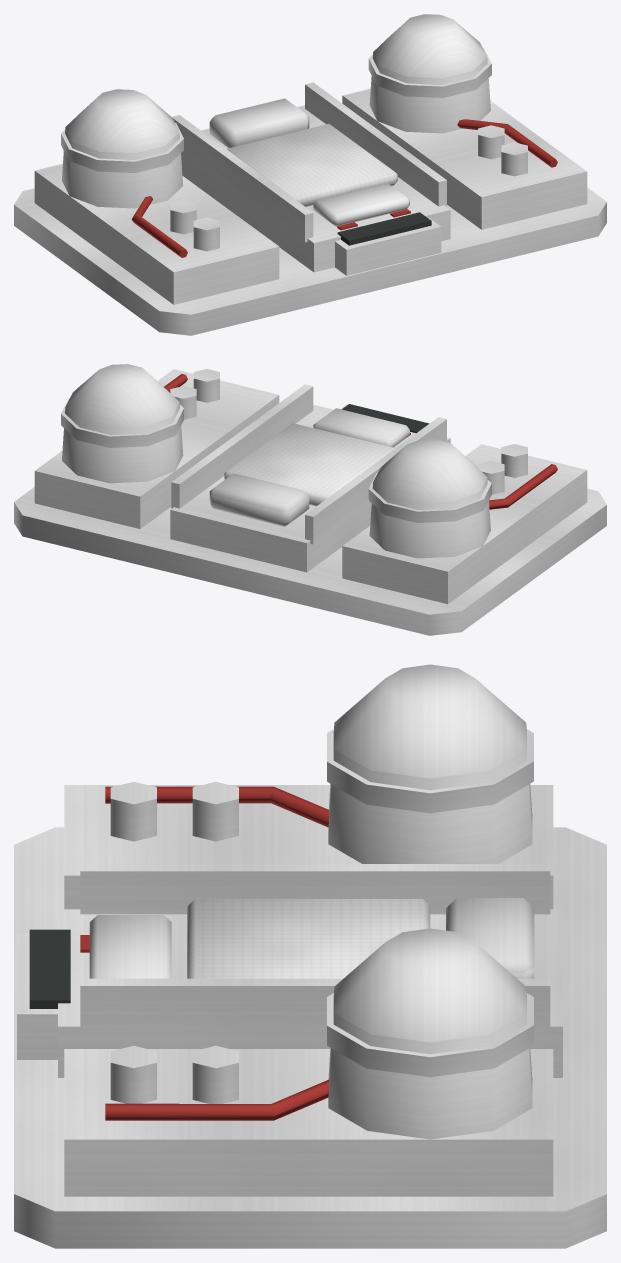
File: subcore_softscanner.obj
3 views of the same model, one above another, from view 1: azimuth 30°, elevation 25°; view 2: azimuth 150°, elevation 25°; view 3: azimuth 270°, elevation 25° (orthographic). The views are drawn at different scales.
Visible parts, largest first — view 1: source_component_000, source_component_001, source_component_002, source_component_016, source_component_021, source_component_004, source_component_003, source_component_007, source_component_008, source_component_009, source_component_005, source_component_006 (+9 smaller); view 2: source_component_000, source_component_001, source_component_002, source_component_016, source_component_021, source_component_003, source_component_004, source_component_008, source_component_005, source_component_007, source_component_006, source_component_022 (+7 smaller); view 3: source_component_000, source_component_002, source_component_021, source_component_016, source_component_007, source_component_001, source_component_004, source_component_008, source_component_003, source_component_022, source_component_017, source_component_006 (+9 smaller).
Boxes of the visible parts, x1,y1,x2,y2 form: source_component_000: [14, 188, 606, 335]; source_component_001: [34, 163, 279, 304]; source_component_002: [342, 88, 587, 229]; source_component_016: [62, 89, 183, 208]; source_component_021: [369, 14, 490, 133]; source_component_004: [227, 124, 397, 206]; source_component_003: [181, 105, 450, 272]; source_component_007: [172, 115, 313, 242]; source_component_008: [305, 82, 446, 206]; source_component_009: [335, 218, 441, 275]; source_component_005: [209, 98, 309, 147]; source_component_006: [313, 183, 409, 226]; source_component_000: [14, 487, 606, 635]; source_component_001: [342, 444, 587, 604]; source_component_002: [34, 369, 279, 528]; source_component_016: [369, 439, 490, 558]; source_component_021: [62, 364, 183, 483]; source_component_003: [170, 405, 450, 572]; source_component_004: [224, 423, 394, 506]; source_component_008: [171, 384, 313, 508]; source_component_005: [209, 473, 309, 526]; source_component_007: [305, 417, 446, 544]; source_component_006: [313, 408, 409, 447]; source_component_022: [61, 397, 183, 447]; source_component_000: [14, 827, 606, 1248]; source_component_002: [64, 1049, 553, 1196]; source_component_021: [328, 928, 532, 1139]; source_component_016: [328, 664, 532, 863]; source_component_007: [80, 864, 550, 914]; source_component_001: [64, 785, 553, 909]; source_component_004: [187, 899, 430, 978]; source_component_008: [80, 978, 550, 1034]; source_component_003: [58, 909, 562, 1077]; source_component_022: [327, 993, 533, 1077]; source_component_017: [327, 729, 533, 813]; source_component_006: [89, 915, 171, 978].
Bounding box in the file's own units: 2.88 × 0.84 × 1.88.
